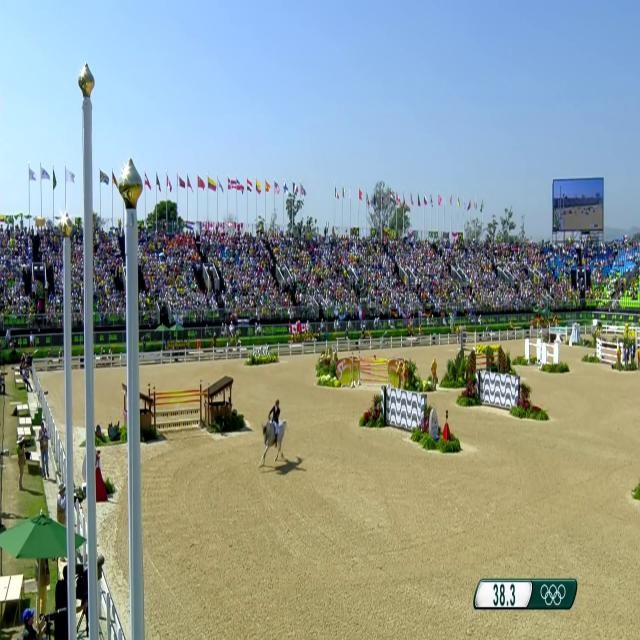Horse Running: (260, 412, 292, 466)
